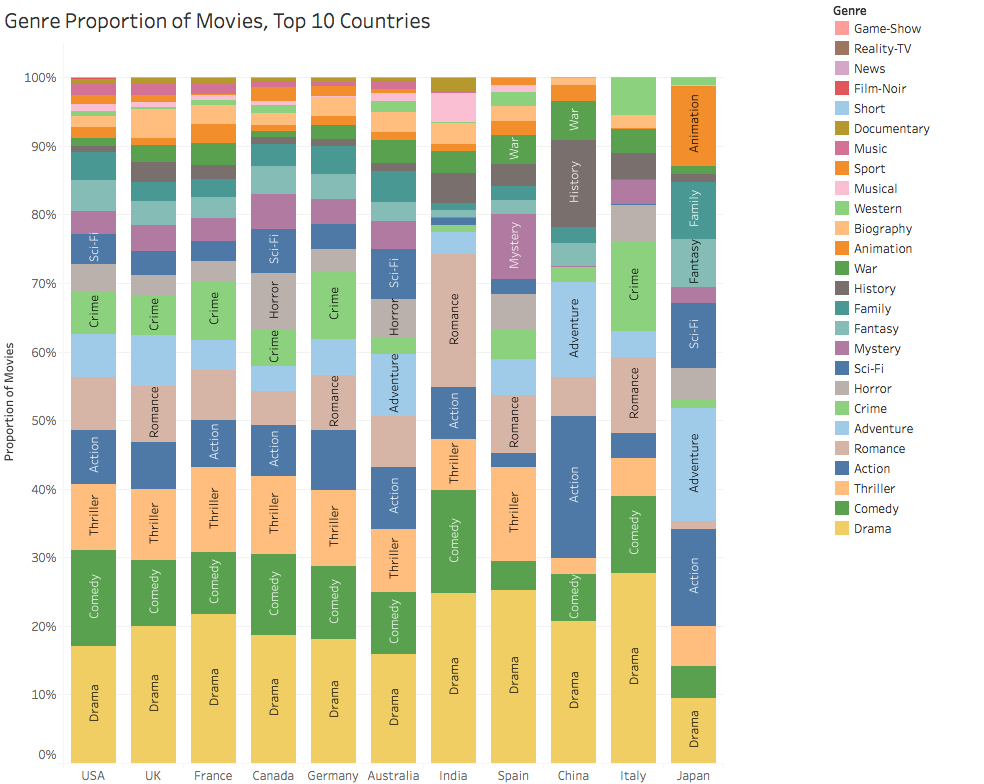

Layout of this report page (visuals, bound fields, positions):
{"tool":"tableau","page":{"name":"Dashboard 2","canvas":[1000,800],"ordinal":0},"visuals":[{"type":"worksheet","title":"Sheet 3","mark":"Automatic","rows":["value"],"cols":["variable"],"box":[0,0,836,800]},{"type":"legend","title":"Sheet 3","param":"[federated.19kzh7u0o5c9ka13mt9gw0oa4gt9].[none:Genre:nk]","box":[836,0,164,580]}]}

Visuals, with their boxes in screenshot pixels (x1, y1, x2, y2), scaled from the page's 1000x800 canvas onto the 984x784 screenshot:
"Sheet 3" worksheet: <bbox>0, 0, 823, 783</bbox>
"Sheet 3" legend: <bbox>823, 0, 983, 568</bbox>
